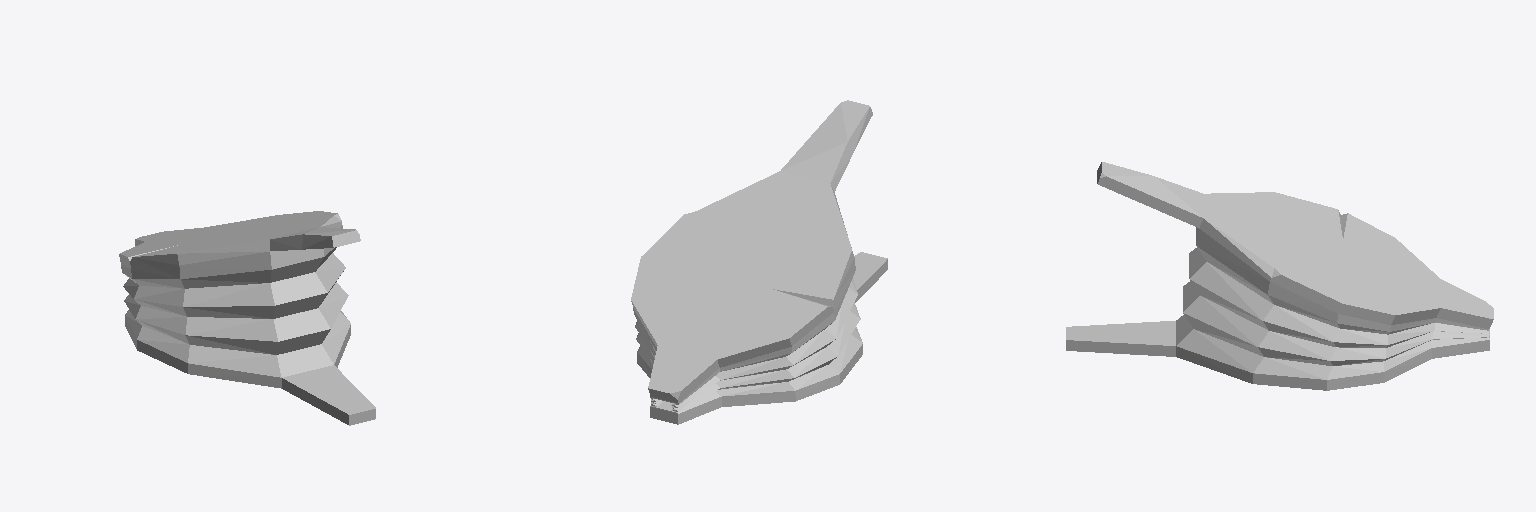
Rendered from Bellows.obj.
3 renders of one model, left to right at view 1: azimuth 30°, elevation 25°; view 2: azimuth 150°, elevation 25°; view 3: azimuth 270°, elevation 25°, orthographic.
Visible parts, largest first — view 1: Bellows; view 2: Bellows; view 3: Bellows.
Part boxes in pixels (x1,y1,x2,y2): Bellows: (119,211,375,425); Bellows: (631,100,887,424); Bellows: (1066,162,1493,390).
Bounding box in the file's own units: 0.4001 × 0.3533 × 0.7757.